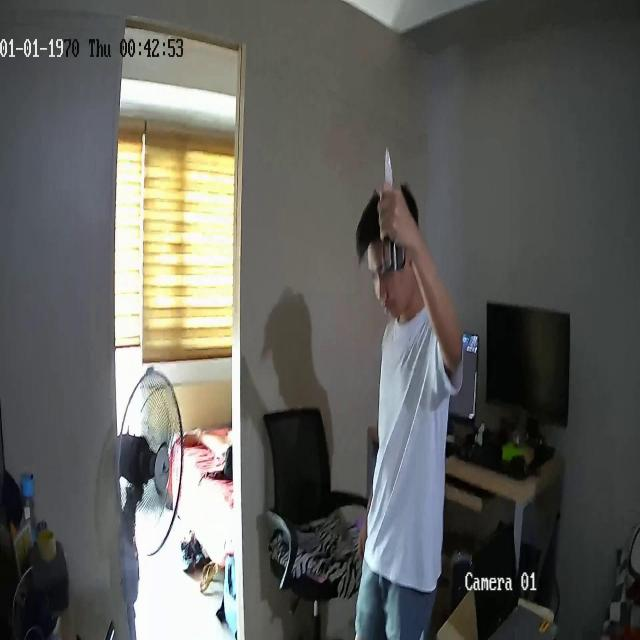scissor: (381, 147, 406, 273)
